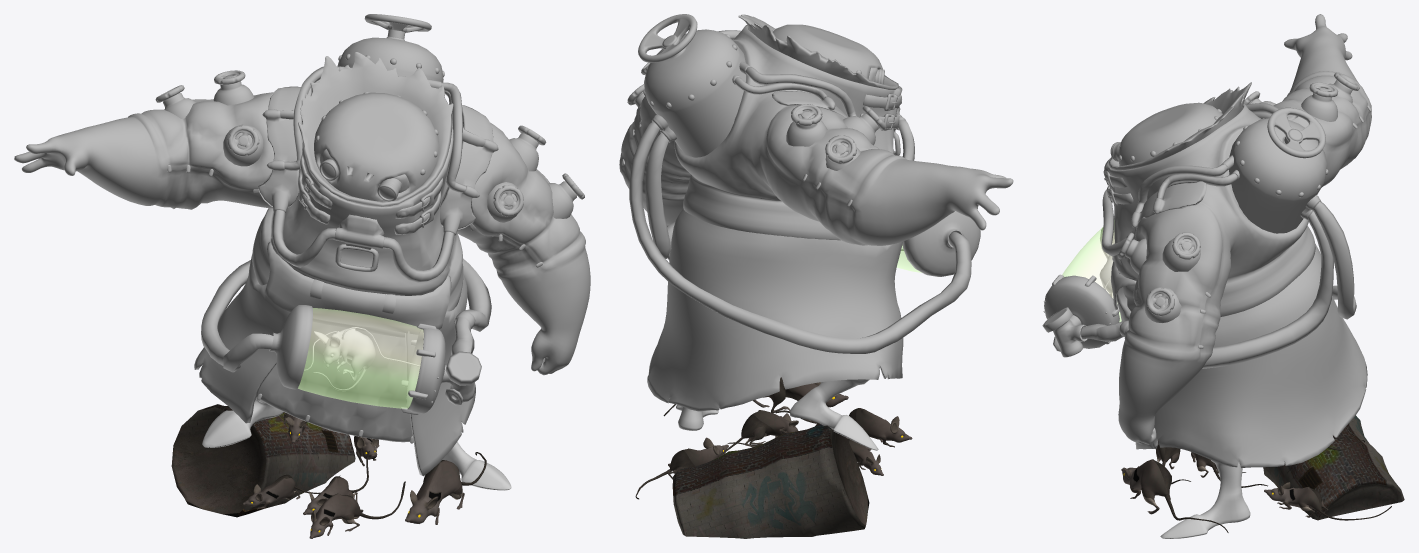
The model's file is Rat.gltf.
3 views of the same model, side by side, from view 1: azimuth 30°, elevation 25°; view 2: azimuth 150°, elevation 25°; view 3: azimuth 270°, elevation 25° (orthographic). The views are drawn at different scales.
Visible parts, largest first — view 1: body_low, barrel_low, skirt_low, skirt_flap_low, canesterGlass_1S_F_low, head_low, fur_low, flap_low, canesterBody_F_low, shoulder_R_low, shoulder_L_low, legs_low (+23 smaller); view 2: body_low, skirt_low, barrel_low, canester_B_low, tubeLegs_R_low, legs_low, canesterBody_F_low, head_low, fur_low, tubeLegs_L_low, tubeShoulder_R_low, canesterValve_B_low (+12 smaller); view 3: body_low, skirt_low, canester_B_low, barrel_low, tubeLegs_L_low, head_low, canesterBody_F_low, legs_low, tubeLegs_R_low, fur_low, tubeShoulder_L_low, canesterValve_B_low (+14 smaller).
Part boxes in pixels (<box>): body_low: <box>14,76,590,375</box>; barrel_low: <box>171,404,355,517</box>; skirt_low: <box>194,254,475,476</box>; skirt_flap_low: <box>256,322,412,442</box>; canesterGlass_1S_F_low: <box>298,308,423,408</box>; head_low: <box>314,92,439,201</box>; fur_low: <box>298,52,453,206</box>; flap_low: <box>264,242,451,334</box>; canesterBody_F_low: <box>269,305,445,413</box>; shoulder_R_low: <box>258,86,300,212</box>; shoulder_L_low: <box>440,105,498,235</box>; legs_low: <box>202,398,511,490</box>; body_low: <box>619,25,1013,260</box>; skirt_low: <box>647,208,903,411</box>; barrel_low: <box>672,424,869,538</box>; canester_B_low: <box>644,29,745,157</box>; tubeLegs_R_low: <box>629,121,971,353</box>; legs_low: <box>676,367,879,450</box>; canesterBody_F_low: <box>902,211,980,276</box>; head_low: <box>773,24,884,84</box>; fur_low: <box>738,14,898,89</box>; tubeLegs_L_low: <box>645,133,675,258</box>; tubeShoulder_R_low: <box>734,67,856,117</box>; canesterValve_B_low: <box>638,14,697,62</box>; body_low: <box>1104,14,1371,444</box>; skirt_low: <box>1117,244,1367,468</box>; canester_B_low: <box>1229,118,1326,233</box>; barrel_low: <box>1263,415,1404,520</box>; tubeLegs_L_low: <box>1081,211,1333,368</box>; head_low: <box>1119,102,1222,166</box>; canesterBody_F_low: <box>1044,216,1119,348</box>; legs_low: <box>1160,460,1250,538</box>; tubeLegs_R_low: <box>1313,201,1356,319</box>; fur_low: <box>1108,82,1251,170</box>; tubeShoulder_L_low: <box>1135,164,1237,212</box>; canesterValve_B_low: <box>1267,107,1325,158</box>.
Size of the model in its own units: 5.53 by 5.1 by 4.01.
